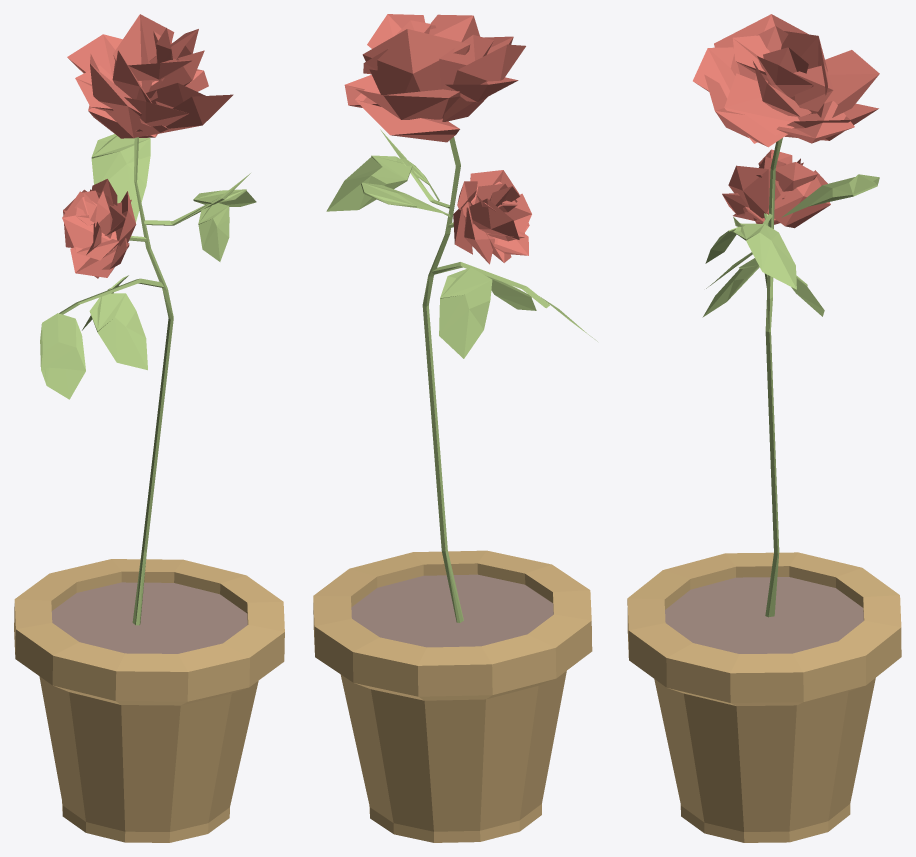
File: preeeeeetyRose.fbx
3 renders of one model, left to right at view 1: azimuth 30°, elevation 25°; view 2: azimuth 150°, elevation 25°; view 3: azimuth 270°, elevation 25°, orthographic. The views are drawn at different scales.
Parts seen in each view (by area): view 1: polySurface965; view 2: polySurface965; view 3: polySurface965.
Boxes of the visible parts, x1,y1,x2,y2 form: polySurface965: (14, 14, 284, 842); polySurface965: (313, 14, 597, 842); polySurface965: (627, 14, 901, 842).
Bounding box in the file's own units: 0.1465 × 0.4506 × 0.1433.
